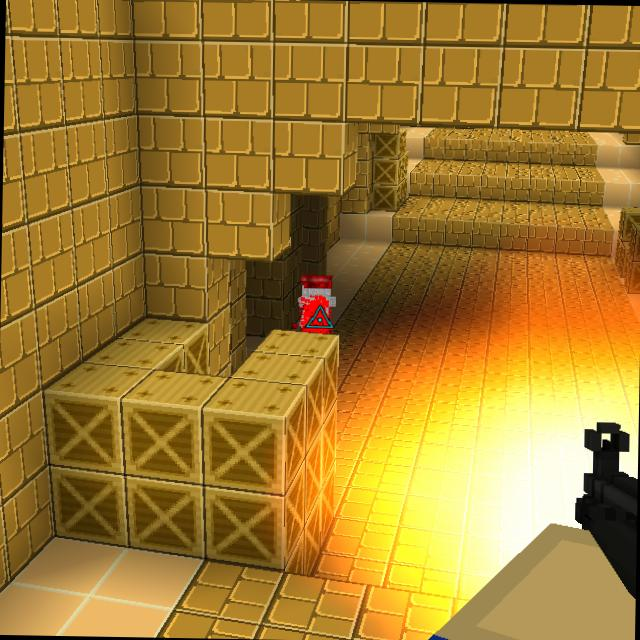enemy: (292, 270, 338, 335)
